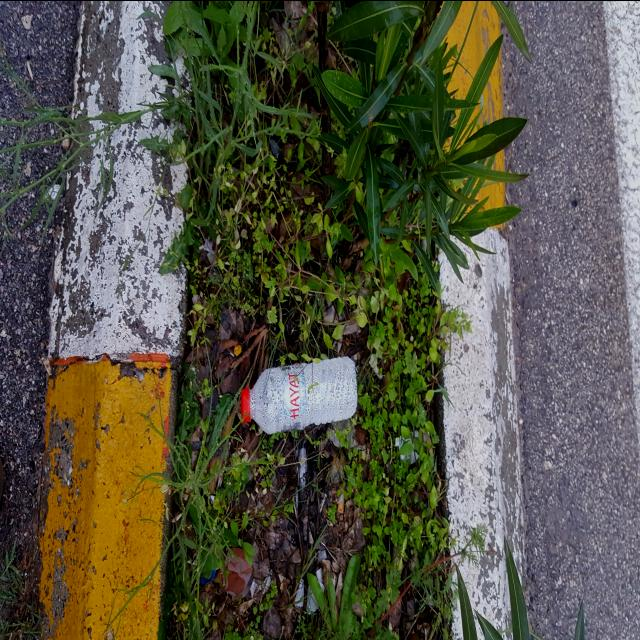Clear plastic bottle: (241, 356, 358, 434)
Other plastic bottle: (199, 568, 218, 583)
Plastic bottle cap: (241, 386, 249, 422)
Plastic film: (296, 448, 307, 515)
Unlabeled litter: (399, 431, 429, 462), (294, 576, 319, 610), (316, 567, 324, 591), (338, 492, 344, 512)
